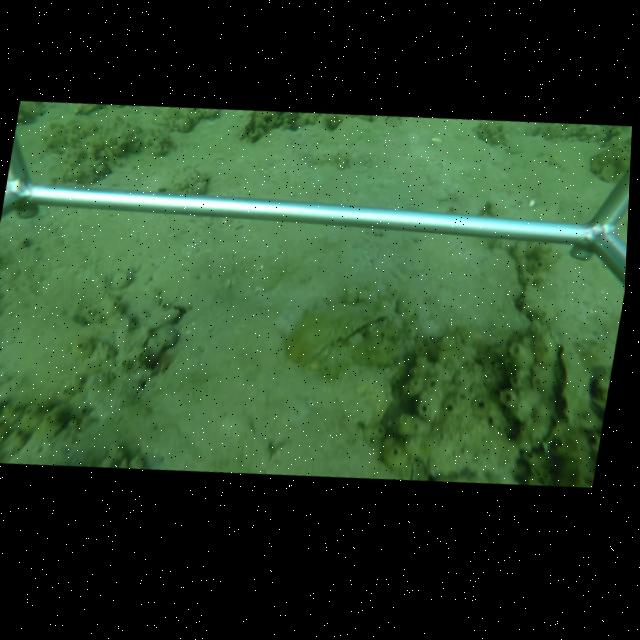Oyster-Closed: (553, 336, 601, 430)
Oyster-Indeterminate: (279, 301, 386, 368)
